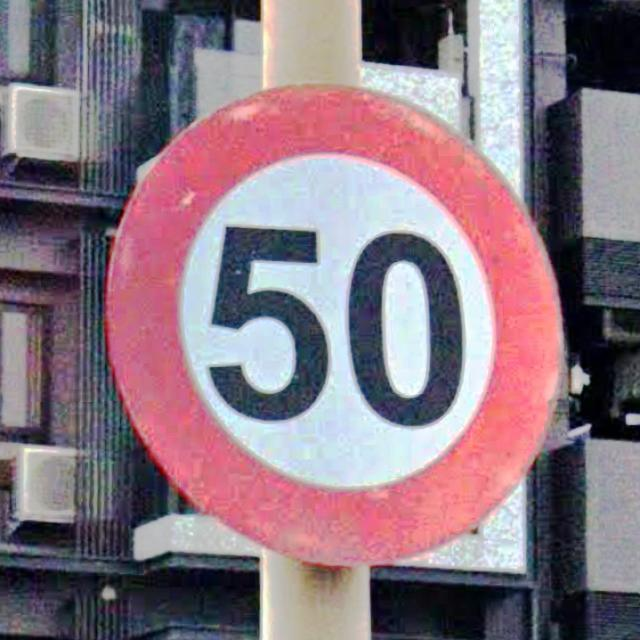max50: (101, 79, 566, 568)
